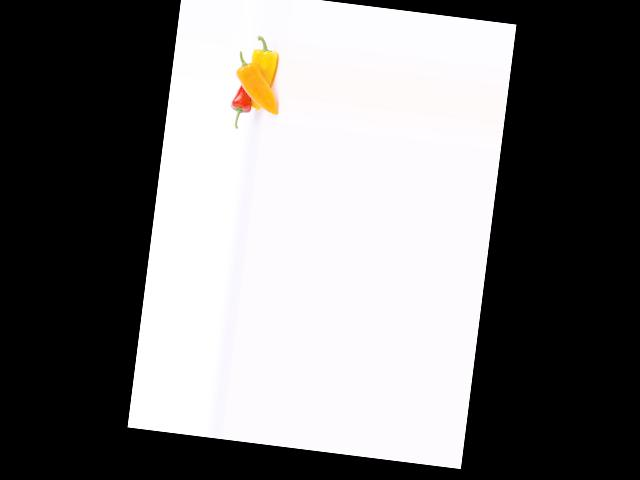bell_pepper: (244, 32, 286, 94)
